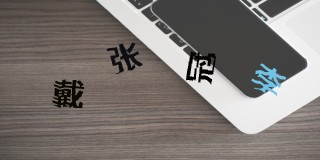冠: (184, 50, 216, 85)
张: (105, 41, 143, 74)
戴: (52, 76, 84, 110)
李: (250, 61, 286, 98)
